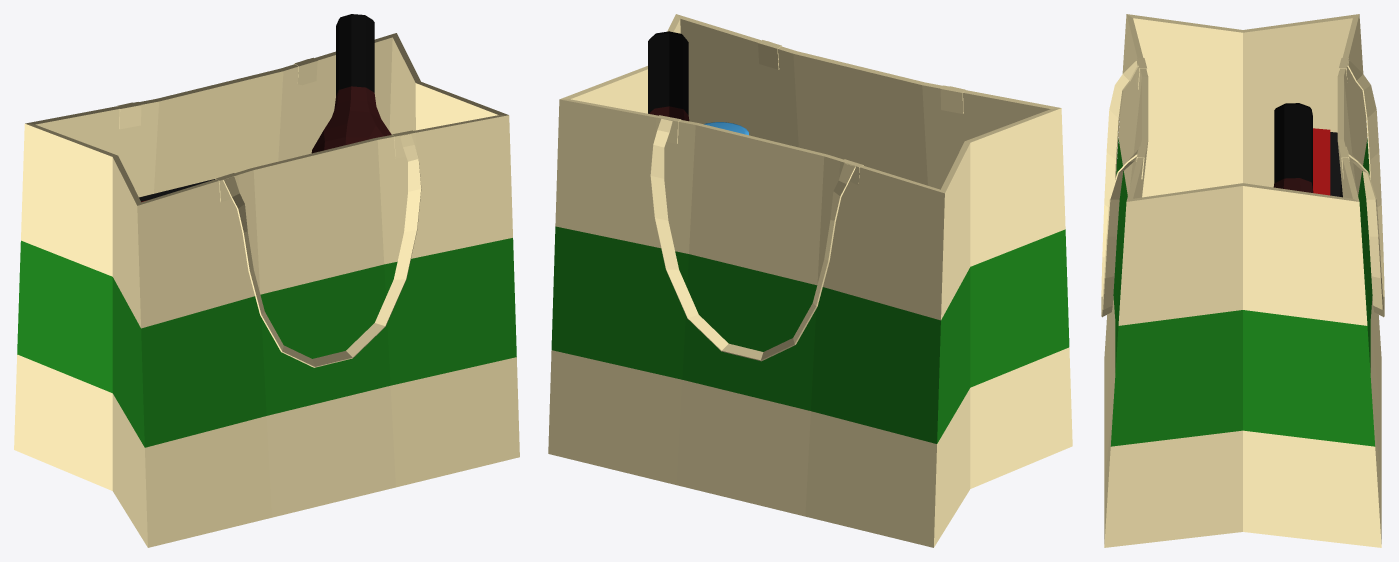
The model's file is Shopping Bag 2.fbx.
3 renders of one model, left to right at view 1: azimuth 30°, elevation 25°; view 2: azimuth 150°, elevation 25°; view 3: azimuth 270°, elevation 25°, orthographic. The views are drawn at different scales.
Visible parts, largest first — view 1: Node 0, Node 2; view 2: Node 0, Node 2; view 3: Node 0, Node 2, Node 3.
Part boxes in pixels (box(x1,y1,x2,y2)): Node 0: box(14, 33, 519, 547); Node 2: box(311, 14, 391, 153); Node 0: box(548, 14, 1072, 547); Node 2: box(648, 31, 689, 121); Node 0: box(1101, 14, 1384, 547); Node 2: box(1273, 103, 1313, 192); Node 3: box(1313, 128, 1342, 197).
Bounding box in the file's own units: 0.1908 × 0.2977 × 0.2996.
